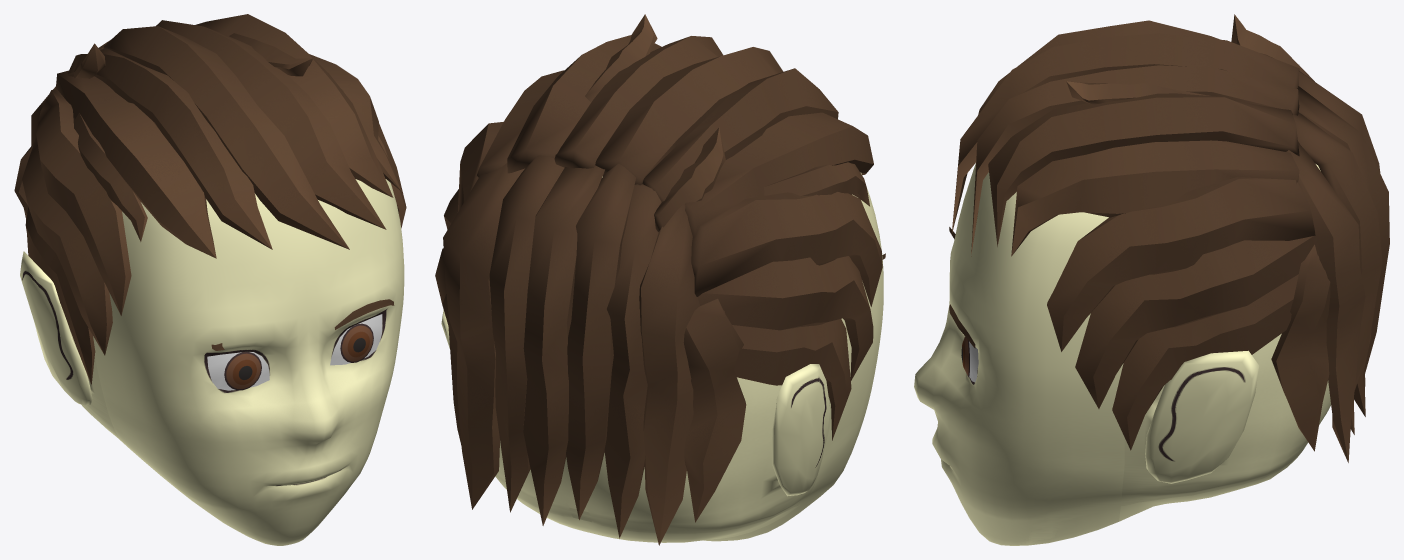
The model's file is Head.FBX.
3 views of the same model, side by side, from view 1: azimuth 30°, elevation 25°; view 2: azimuth 150°, elevation 25°; view 3: azimuth 270°, elevation 25° (orthographic). The views are drawn at different scales.
Parts seen in each view (by area): view 1: Head, Hair, Hair6, Hair2, Hair5, HairSide_R, Hair3, HairSide_R2, HairSide_R3, HairSide_R5, Hair4, Curl1 (+7 smaller); view 2: Head, BackHair3, BackHair5, BackHair4, BackHair, HairSide_R, BackHair2, BackHair6, HairSide_R2, Hair, HairSide_R4, Hair6 (+10 smaller); view 3: Head, HairSide_L, Hair3, Hair4, HairSide_L2, Hair, HairSide_L3, BackHair, Hair2, HairSide_L4, BackHair2, BackHair3 (+4 smaller).
Boxes of the visible parts, left/top/right/bottom form: Head: left=20, top=179, right=404, bottom=545; Hair: left=103, top=26, right=349, bottom=249; Hair6: left=55, top=70, right=216, bottom=258; Hair2: left=156, top=20, right=386, bottom=229; Hair5: left=94, top=48, right=272, bottom=249; HairSide_R: left=36, top=89, right=131, bottom=315; Hair3: left=195, top=14, right=393, bottom=197; HairSide_R2: left=22, top=136, right=112, bottom=355; HairSide_R3: left=25, top=207, right=95, bottom=384; HairSide_R5: left=73, top=113, right=147, bottom=241; Hair4: left=309, top=54, right=401, bottom=191; Curl1: left=229, top=33, right=312, bottom=76; Head: left=441, top=172, right=883, bottom=542; BackHair3: left=523, top=165, right=604, bottom=525; BackHair5: left=639, top=205, right=699, bottom=545; BackHair4: left=566, top=163, right=635, bottom=519; BackHair: left=443, top=163, right=524, bottom=509; HairSide_R: left=691, top=192, right=882, bottom=306; BackHair2: left=489, top=155, right=564, bottom=512; BackHair6: left=604, top=184, right=661, bottom=538; HairSide_R2: left=697, top=256, right=873, bottom=380; Hair: left=595, top=47, right=783, bottom=185; HairSide_R4: left=683, top=298, right=746, bottom=522; Hair6: left=685, top=112, right=873, bottom=236; Head: left=914, top=163, right=1330, bottom=545; HairSide_L: left=1047, top=177, right=1315, bottom=351; Hair3: left=988, top=93, right=1299, bottom=246; Hair4: left=1011, top=140, right=1299, bottom=256; HairSide_L2: left=1075, top=235, right=1318, bottom=408; Hair: left=951, top=33, right=1298, bottom=234; HairSide_L3: left=1112, top=274, right=1298, bottom=450; BackHair: left=1286, top=141, right=1365, bottom=462; Hair2: left=971, top=65, right=1299, bottom=256; HairSide_L4: left=1271, top=244, right=1330, bottom=451; BackHair2: left=1293, top=112, right=1382, bottom=434; BackHair3: left=1297, top=86, right=1389, bottom=416.
Size of the model in its own units: 0.1806 by 0.241 by 0.2116.
4 materials, 4 textured.
